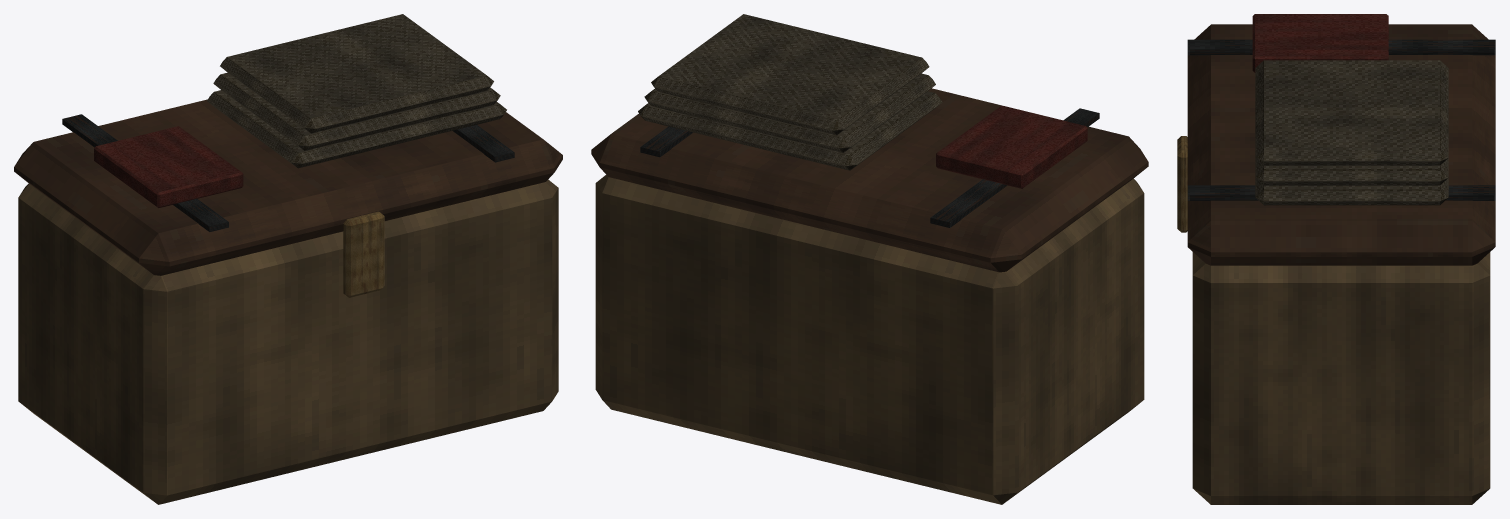
Rendered from level_lived_trunk_worn.glb.
The picture shows the model from 3 angles, left to right: view 1: azimuth 30°, elevation 25°; view 2: azimuth 150°, elevation 25°; view 3: azimuth 270°, elevation 25°; orthographic projection. The views are drawn at different scales.
Visible parts, largest first — view 1: level_lived_trunk_worn; view 2: level_lived_trunk_worn; view 3: level_lived_trunk_worn.
Part boxes in pixels (x1=…): level_lived_trunk_worn: x1=14, y1=14, x2=562, y2=504; level_lived_trunk_worn: x1=591, y1=14, x2=1148, y2=504; level_lived_trunk_worn: x1=1177, y1=14, x2=1495, y2=504.
Bounding box in the file's own units: 0.98 × 0.7165 × 0.6095.
7 materials, 7 textured.
